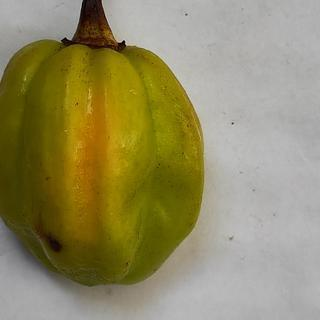Defect: (35, 225, 71, 261)
